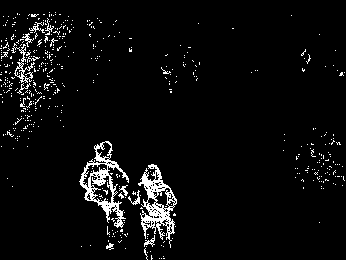person: (79, 138, 129, 253), (127, 162, 184, 260)
